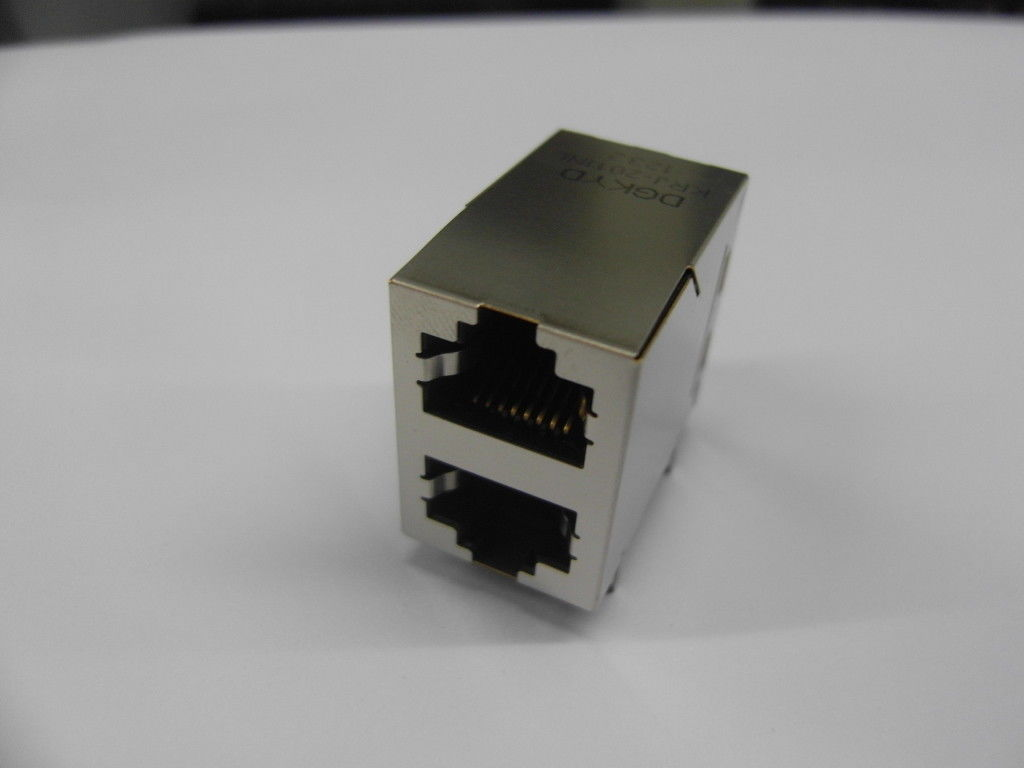lan: (403, 285, 606, 473), (412, 445, 586, 602)
